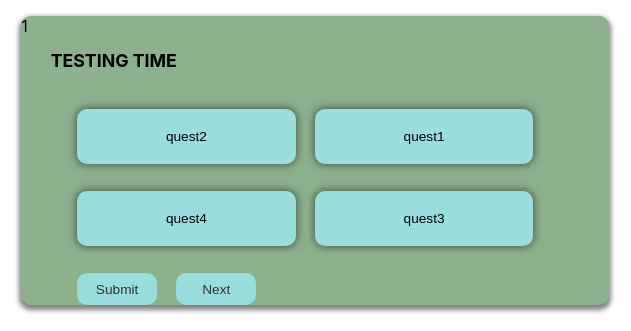
Test: Questions Component › rendering submit button
This screenshot has width=631, height=331.
Expected: the button "Next" is disabled, x1=176 y1=273 x2=256 y2=305
Expected: the button "Submit" is disabled, x1=77 y1=273 x2=157 y2=305
Click the button with test id "answers-0" at (186, 137), box x1=77 y1=109 x2=296 y2=164
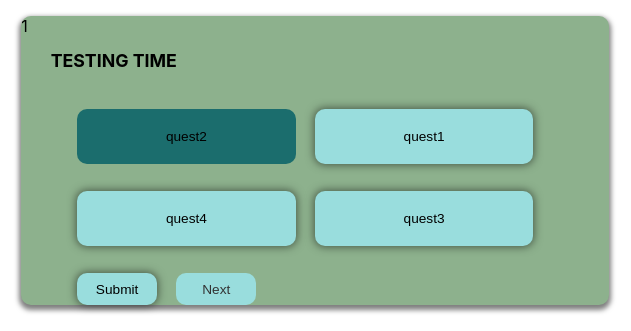
Expected: the button "Submit" is enabled, x1=77 y1=273 x2=157 y2=305
